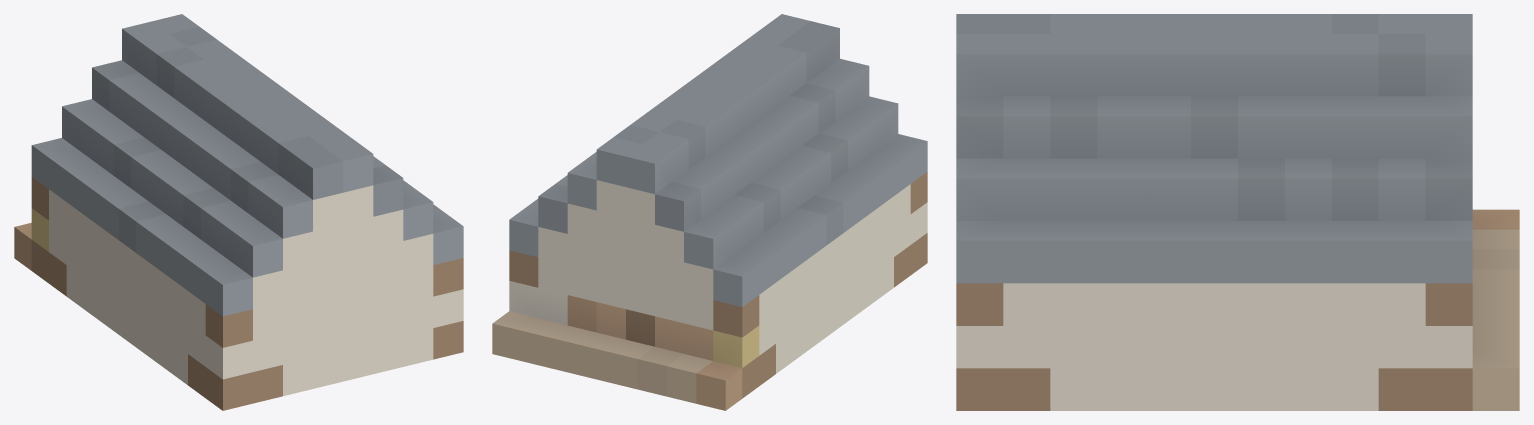
Rendered from clay_pit.lite.glb.
3 views of the same model, side by side, from view 1: azimuth 30°, elevation 25°; view 2: azimuth 150°, elevation 25°; view 3: azimuth 270°, elevation 25° (orthographic). The views are drawn at different scales.
Visible parts, largest first — view 1: clay_pit; view 2: clay_pit; view 3: clay_pit.
Part boxes in pixels (x1=…): clay_pit: x1=14, y1=14, x2=463, y2=410; clay_pit: x1=492, y1=14, x2=927, y2=410; clay_pit: x1=956, y1=14, x2=1519, y2=410.
Bounding box in the file's own units: 4 × 3.5 × 6.
